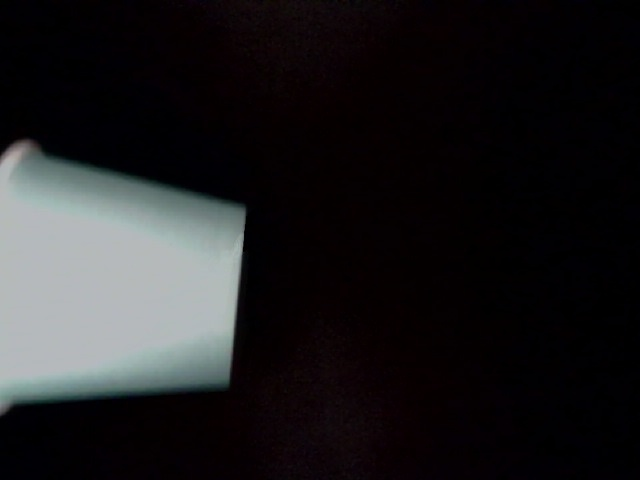CYLJ: (554, 124, 640, 233)
